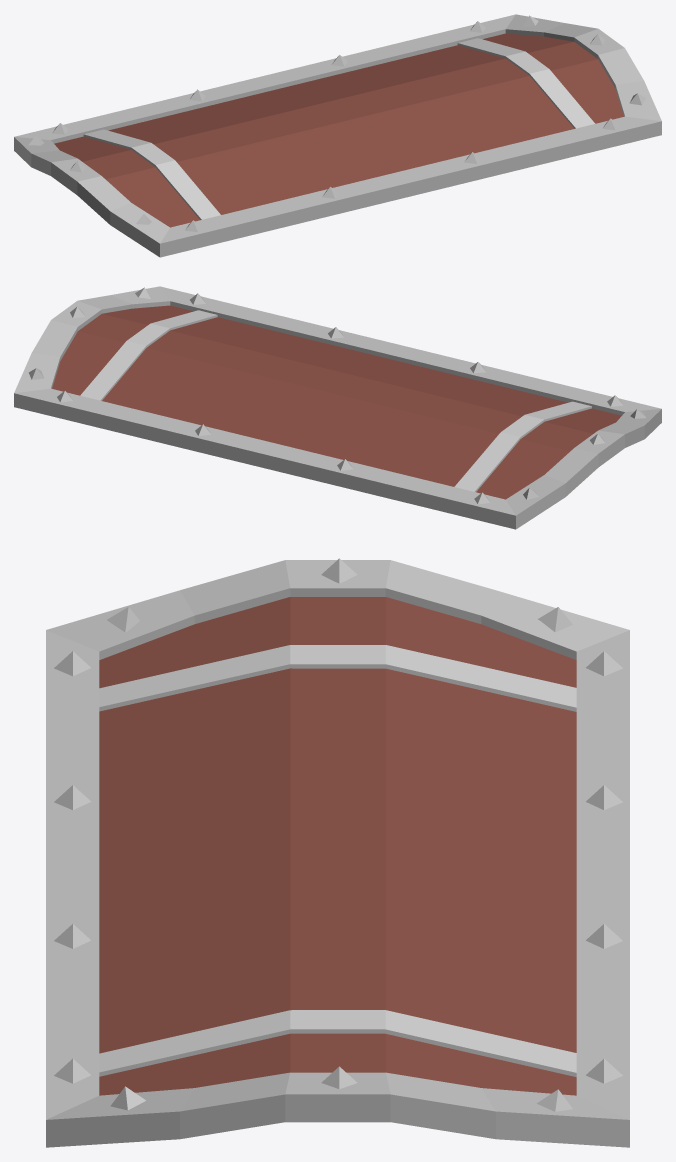
The model's file is Shield_2_с_r.fbx.
3 renders of one model, top to bottom at view 1: azimuth 30°, elevation 25°; view 2: azimuth 150°, elevation 25°; view 3: azimuth 270°, elevation 25°, orthographic. The views are drawn at different scales.
Visible parts, largest first — view 1: Plane.098, Plane.097, Plane.101, Plane.100, Cone.174; view 2: Plane.098, Plane.097, Plane.100, Plane.101, Cone.174; view 3: Plane.098, Plane.097, Plane.101, Plane.100, Cone.174.
Boxes of the visible parts, x1=… form: Plane.098: x1=54, y1=33, x2=623, y2=227; Plane.097: x1=14, y1=14, x2=661, y2=257; Plane.101: x1=457, y1=38, x2=595, y2=128; Plane.100: x1=83, y1=129, x2=220, y2=219; Cone.174: x1=28, y1=15, x2=645, y2=231; Plane.098: x1=52, y1=305, x2=621, y2=499; Plane.097: x1=14, y1=286, x2=661, y2=529; Plane.100: x1=454, y1=401, x2=591, y2=492; Plane.101: x1=80, y1=310, x2=217, y2=400; Cone.174: x1=28, y1=287, x2=646, y2=504; Plane.098: x1=99, y1=597, x2=576, y2=1095; Plane.097: x1=46, y1=560, x2=629, y2=1147; Plane.101: x1=99, y1=1010, x2=576, y2=1076; Plane.100: x1=99, y1=645, x2=576, y2=711; Cone.174: x1=54, y1=558, x2=622, y2=1111.
Size of the model in its own units: 132 by 16.24 by 61.17.
